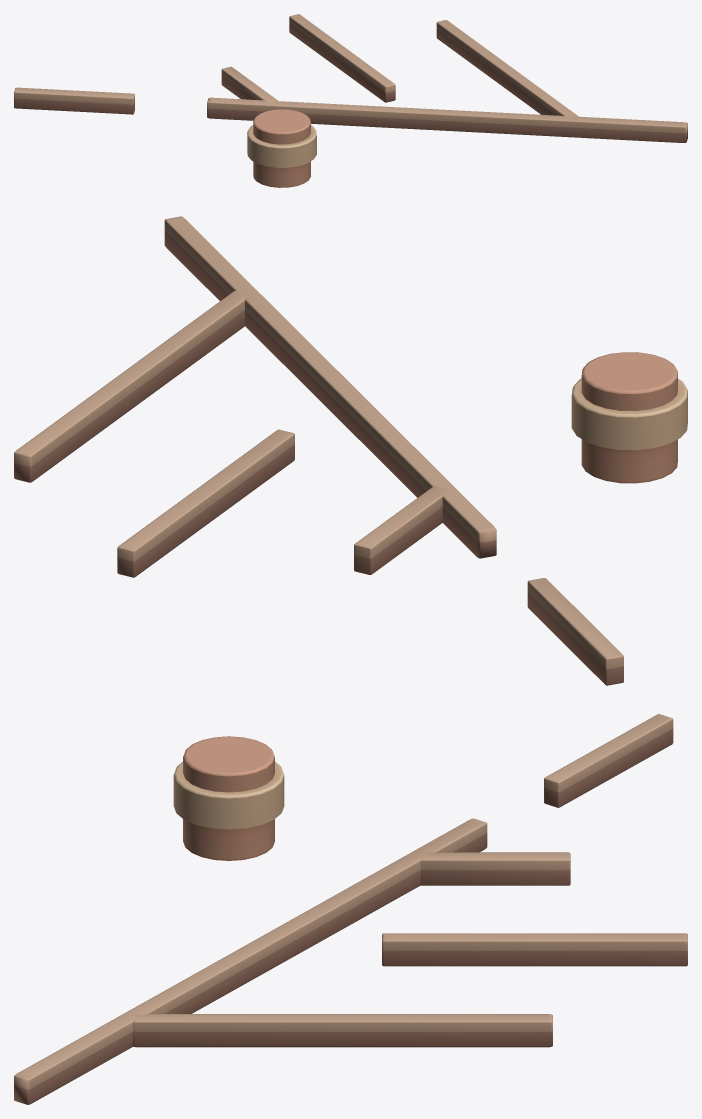
Rendered from Props.fbx.
The picture shows the model from 3 angles, top to bottom: view 1: azimuth 30°, elevation 25°; view 2: azimuth 150°, elevation 25°; view 3: azimuth 270°, elevation 25°; orthographic projection. The views are drawn at different scales.
Parts seen in each view (by area): view 1: Box20-3_1 (6), Cylinder-3, Box20-3_1 (8), Box20-3_1 (9), Box20-3_1 (7), Box20-3_1 (10); view 2: Box20-3_1 (6), Cylinder-3, Box20-3_1 (8), Box20-3_1 (9), Box20-3_1 (7), Box20-3_1 (10); view 3: Box20-3_1 (6), Box20-3_1 (8), Cylinder-3, Box20-3_1 (9), Box20-3_1 (10), Box20-3_1 (7).
Part boxes in pixels (x1=…): Box20-3_1 (6): x1=207, y1=97, x2=687, y2=142; Cylinder-3: x1=247, y1=109, x2=316, y2=187; Box20-3_1 (8): x1=436, y1=20, x2=578, y2=117; Box20-3_1 (9): x1=289, y1=14, x2=395, y2=102; Box20-3_1 (7): x1=14, y1=87, x2=134, y2=114; Box20-3_1 (10): x1=221, y1=66, x2=278, y2=103; Box20-3_1 (6): x1=164, y1=216, x2=496, y2=558; Cylinder-3: x1=571, y1=352, x2=687, y2=483; Box20-3_1 (8): x1=14, y1=290, x2=247, y2=482; Box20-3_1 (9): x1=117, y1=429, x2=294, y2=577; Box20-3_1 (7): x1=527, y1=578, x2=623, y2=685; Box20-3_1 (10): x1=354, y1=486, x2=447, y2=574; Box20-3_1 (6): x1=14, y1=818, x2=487, y2=1104; Box20-3_1 (8): x1=133, y1=1014, x2=552, y2=1047; Cylinder-3: x1=173, y1=736, x2=284, y2=860; Box20-3_1 (9): x1=382, y1=933, x2=687, y2=966; Box20-3_1 (10): x1=418, y1=852, x2=570, y2=885; Box20-3_1 (7): x1=544, y1=714, x2=673, y2=807.
Bounding box in the file's own units: 45.34 × 5 × 35.25.
